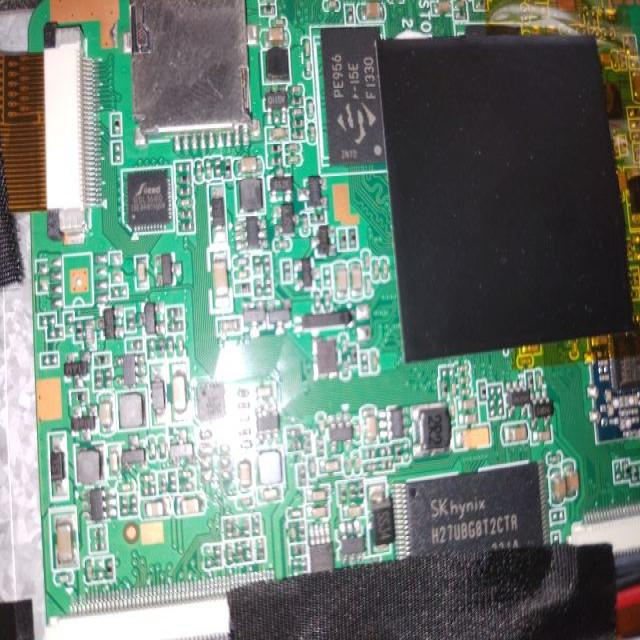capacitor: (206, 250, 238, 302), (50, 509, 79, 566), (560, 458, 591, 502), (170, 368, 190, 416), (501, 415, 530, 448), (548, 463, 567, 510), (177, 500, 216, 522), (332, 263, 351, 304), (352, 0, 387, 22), (260, 28, 295, 49), (346, 260, 362, 302), (301, 500, 332, 521), (304, 480, 328, 506), (382, 243, 396, 287), (237, 153, 262, 177), (362, 404, 377, 442), (134, 258, 151, 288), (233, 458, 252, 484), (432, 0, 457, 19), (262, 127, 291, 141), (146, 500, 166, 520), (190, 163, 207, 186), (286, 148, 306, 166), (325, 454, 341, 476), (533, 428, 560, 440), (455, 414, 482, 426), (340, 503, 363, 517), (456, 396, 477, 411), (370, 255, 383, 276), (108, 251, 125, 264), (310, 122, 318, 148), (286, 140, 298, 153)
resistor: (502, 420, 530, 448), (90, 351, 119, 367), (110, 107, 124, 135), (106, 555, 114, 589), (73, 324, 85, 343), (75, 394, 92, 406)
